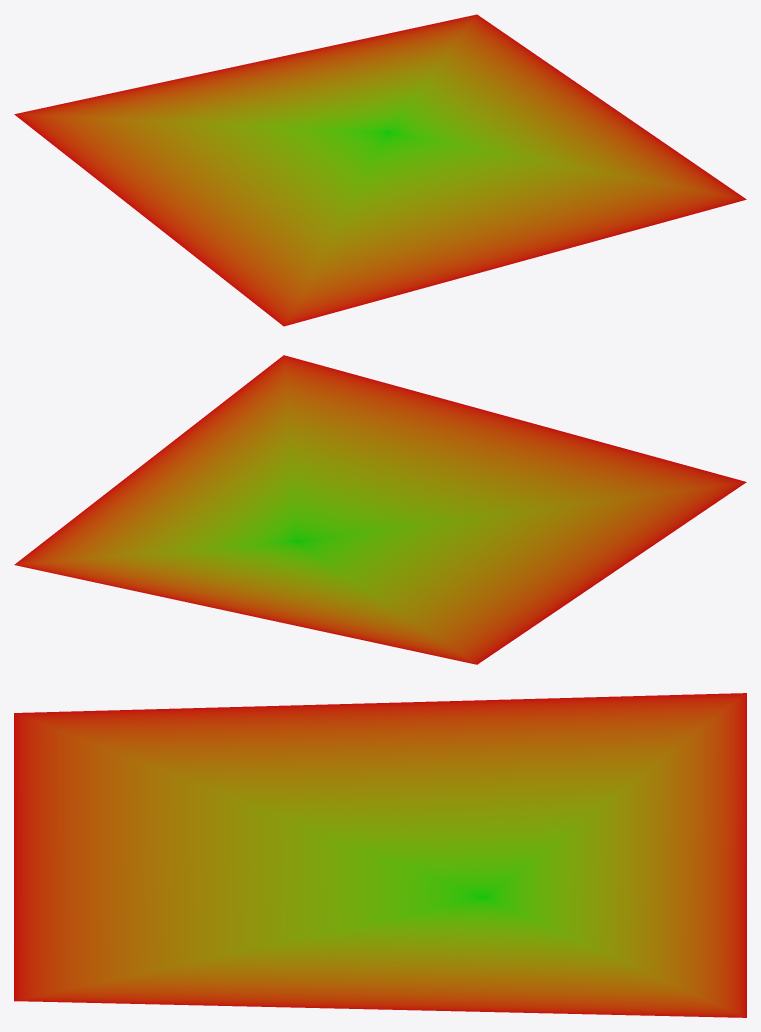
Rendered from Mile-a-minute Vine_LOD3_Var8_sfqns.fbx.
3 views of the same model, one above another, from view 1: azimuth 30°, elevation 25°; view 2: azimuth 150°, elevation 25°; view 3: azimuth 270°, elevation 25° (orthographic). The views are drawn at different scales.
Parts seen in each view (by area): view 1: _cc51_Var8_LOD3; view 2: _cc51_Var8_LOD3; view 3: _cc51_Var8_LOD3.
Boxes of the visible parts, box(x1,y1,x2,y2) form: _cc51_Var8_LOD3: box(14, 14, 746, 326); _cc51_Var8_LOD3: box(14, 355, 746, 664); _cc51_Var8_LOD3: box(14, 693, 746, 1017).
Size of the model in its own units: 24.26 by 0.7644 by 24.48.
